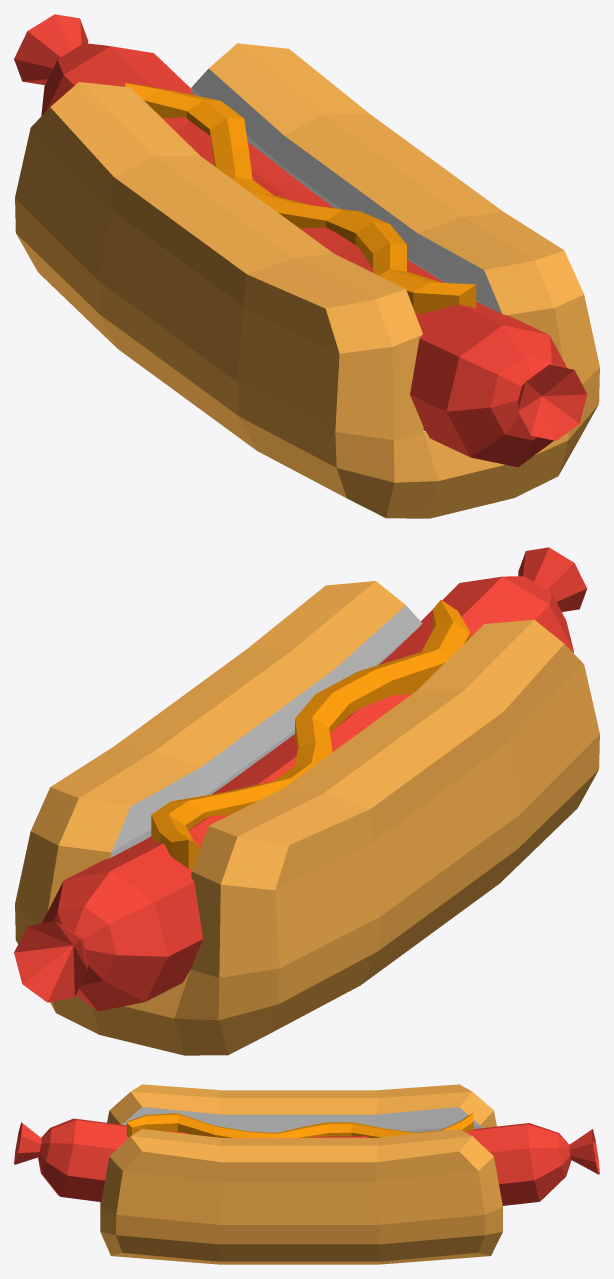
File: hotdog.glb
3 renders of one model, top to bottom at view 1: azimuth 30°, elevation 25°; view 2: azimuth 150°, elevation 25°; view 3: azimuth 270°, elevation 25°, orthographic. The views are drawn at different scales.
Parts seen in each view (by area): view 1: Cube.025_Cube.026; view 2: Cube.025_Cube.026; view 3: Cube.025_Cube.026.
Boxes of the visible parts, <box> form: Cube.025_Cube.026: <box>14,14,599,518</box>; Cube.025_Cube.026: <box>14,547,599,1055</box>; Cube.025_Cube.026: <box>14,1084,599,1264</box>.
Size of the model in its own units: 0.1743 by 0.1352 by 0.5433.
